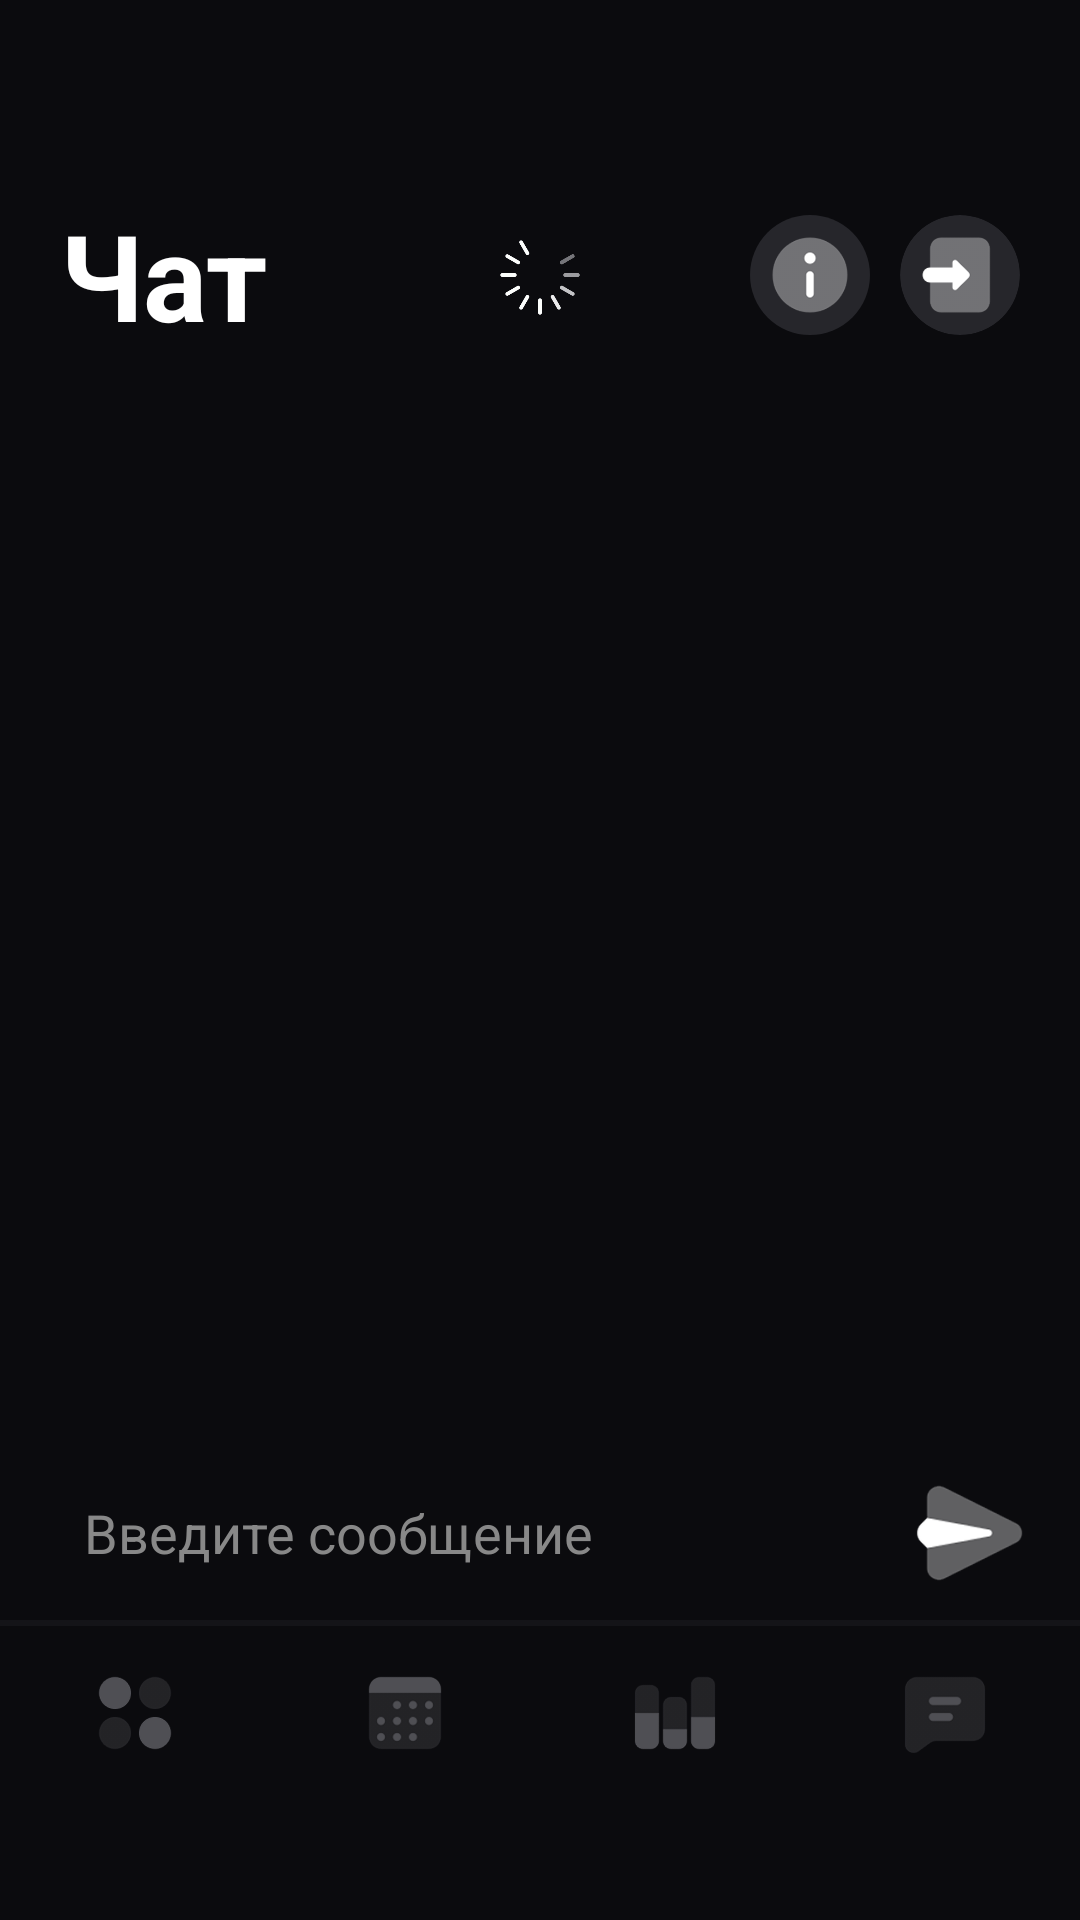

Icons on this 1080 × 1920 Android screen, each with its box as (x1, y1, x2, y2):
about: (772, 237, 848, 313)
calendar: (369, 1677, 441, 1749)
chat: (905, 1677, 985, 1753)
home: (99, 1677, 171, 1749)
login: (922, 237, 990, 313)
statistics: (635, 1677, 715, 1750)
Загрузка: (500, 240, 580, 315)
Отправить сообщение: (917, 1486, 1022, 1580)
